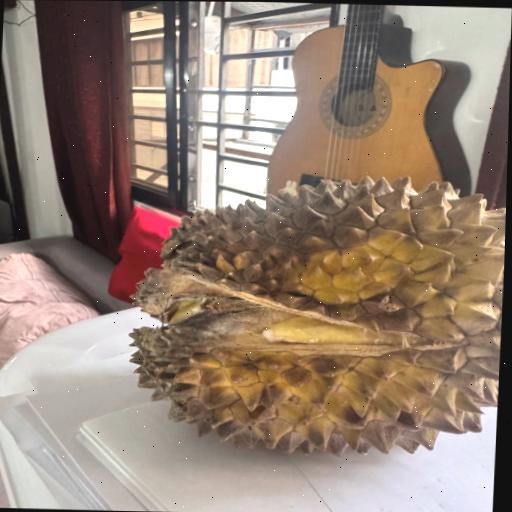rot: (90, 155, 507, 480)
